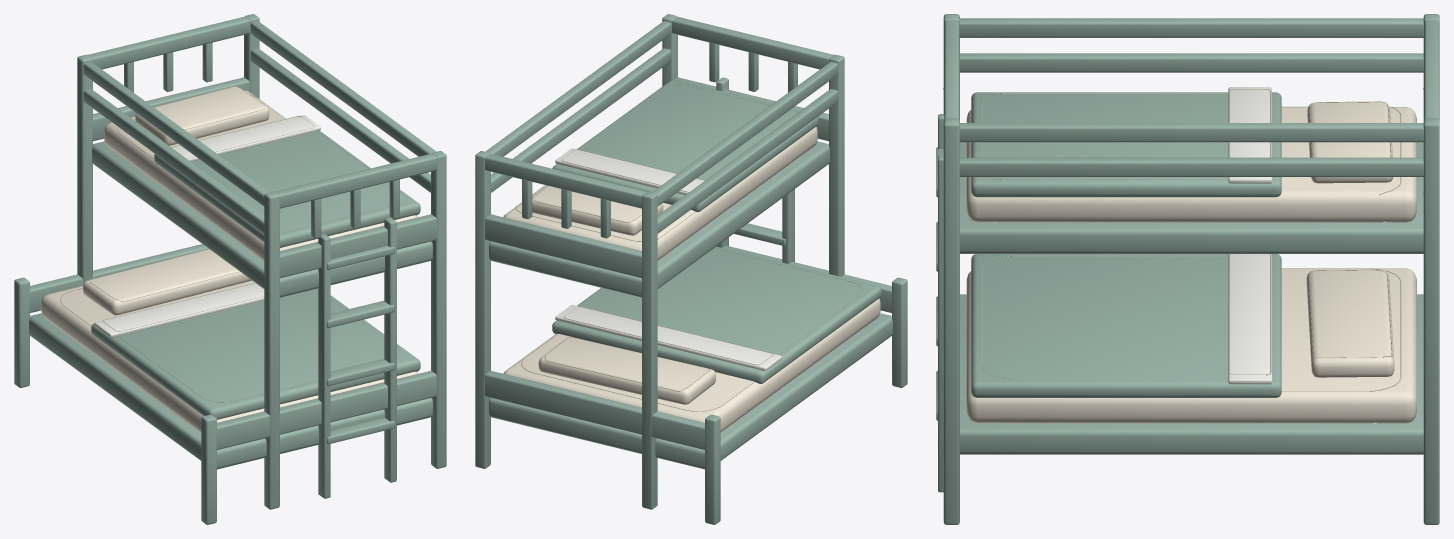
The model's file is twin-full-bunk.glb.
The picture shows the model from 3 angles, left to right: view 1: azimuth 30°, elevation 25°; view 2: azimuth 150°, elevation 25°; view 3: azimuth 270°, elevation 25°; orthographic projection. The views are drawn at different scales.
Visible parts, largest first — view 1: twin-full-bunk; view 2: twin-full-bunk; view 3: twin-full-bunk.
Boxes of the visible parts, x1,y1,x2,y2 form: twin-full-bunk: [14, 14, 446, 524]; twin-full-bunk: [475, 14, 907, 524]; twin-full-bunk: [936, 14, 1439, 524].
Size of the model in its own units: 1.53 by 1.9 by 2.16.
